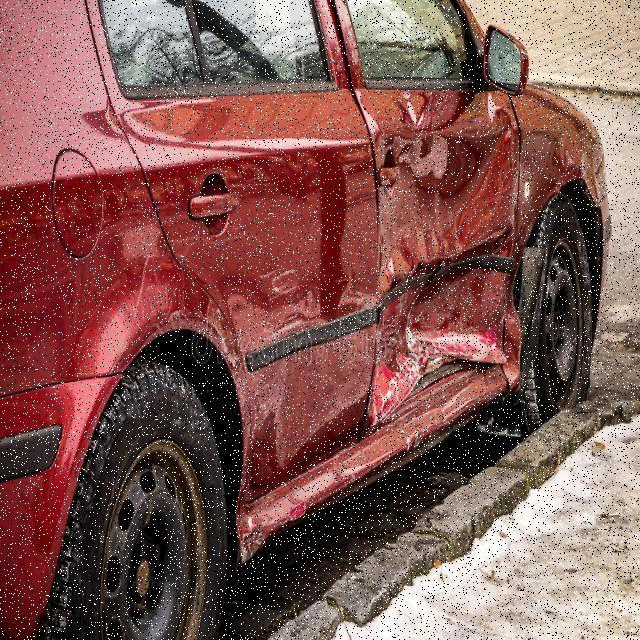RunningBoard-Dent: (238, 451, 352, 555), (372, 410, 473, 480)
doorouter-dent: (117, 93, 366, 450), (372, 91, 517, 395)
fender-dent: (518, 100, 594, 254)
